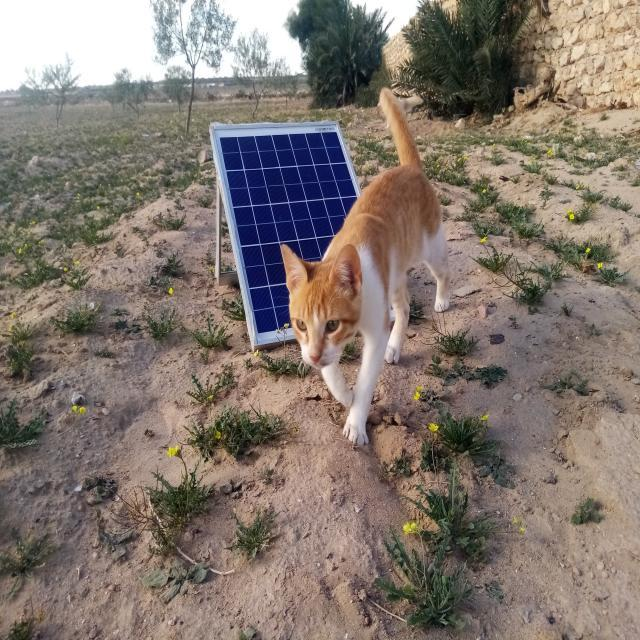no faulty: (214, 121, 345, 338)
